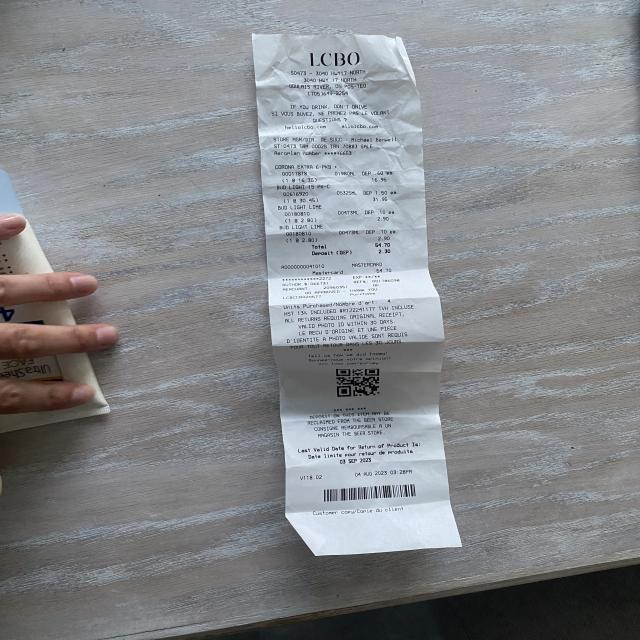item: (271, 162, 399, 185), (273, 183, 400, 204), (276, 202, 403, 223), (277, 222, 403, 243)
store_name: (308, 49, 363, 69)
total_amount: (310, 240, 394, 250)
transaction_date: (352, 468, 388, 479)
